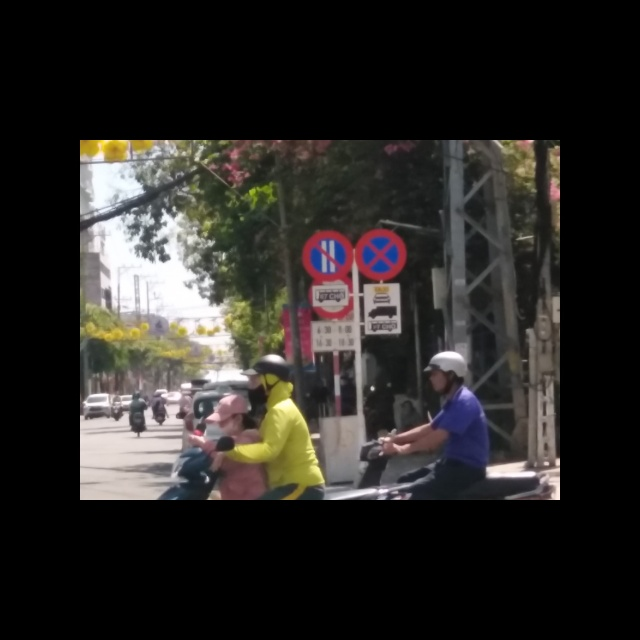Cấm dừng xe và đỗ xe: (354, 229, 408, 280)
Cấm đỗ xe ngày chẵn: (301, 229, 354, 279)
